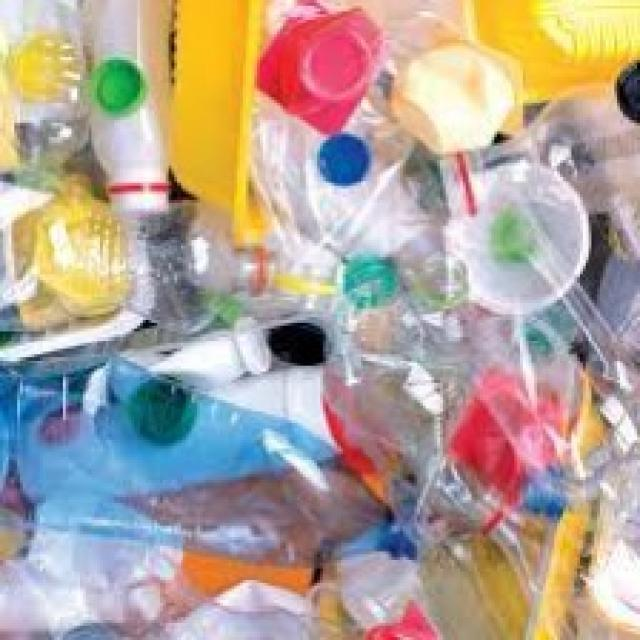heap: (38, 16, 640, 640)
plastic: (443, 1, 640, 115)
plastic_bottle: (330, 250, 473, 564), (39, 171, 276, 332)
